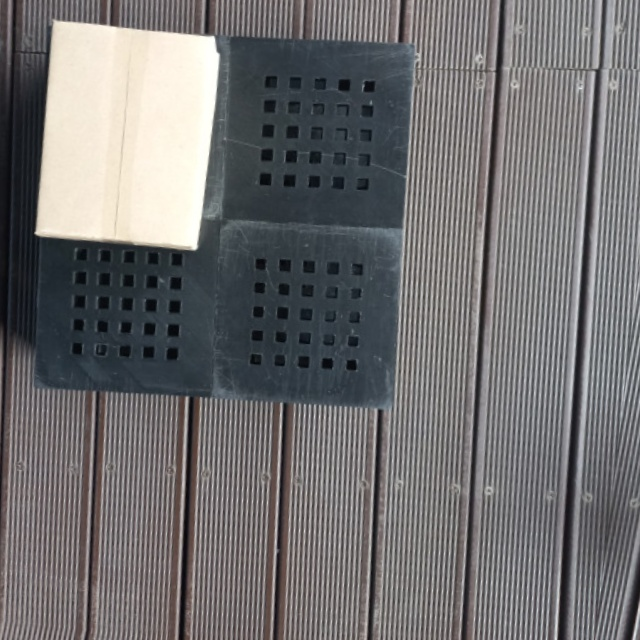box: (31, 16, 221, 257)
pallet: (27, 21, 414, 416)
